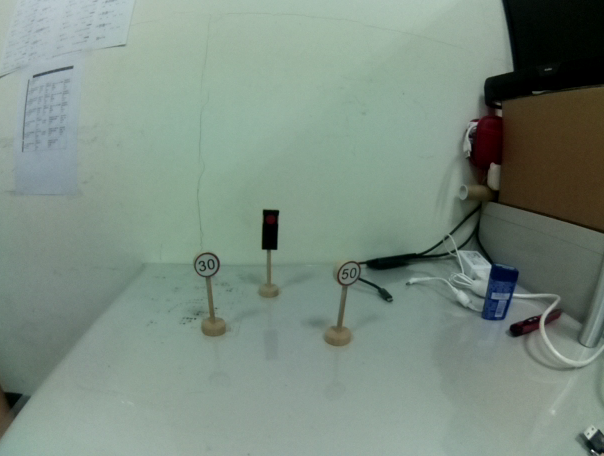Red: (261, 204, 281, 252)
Speed30: (192, 251, 222, 279)
Speed50: (332, 256, 361, 288)
